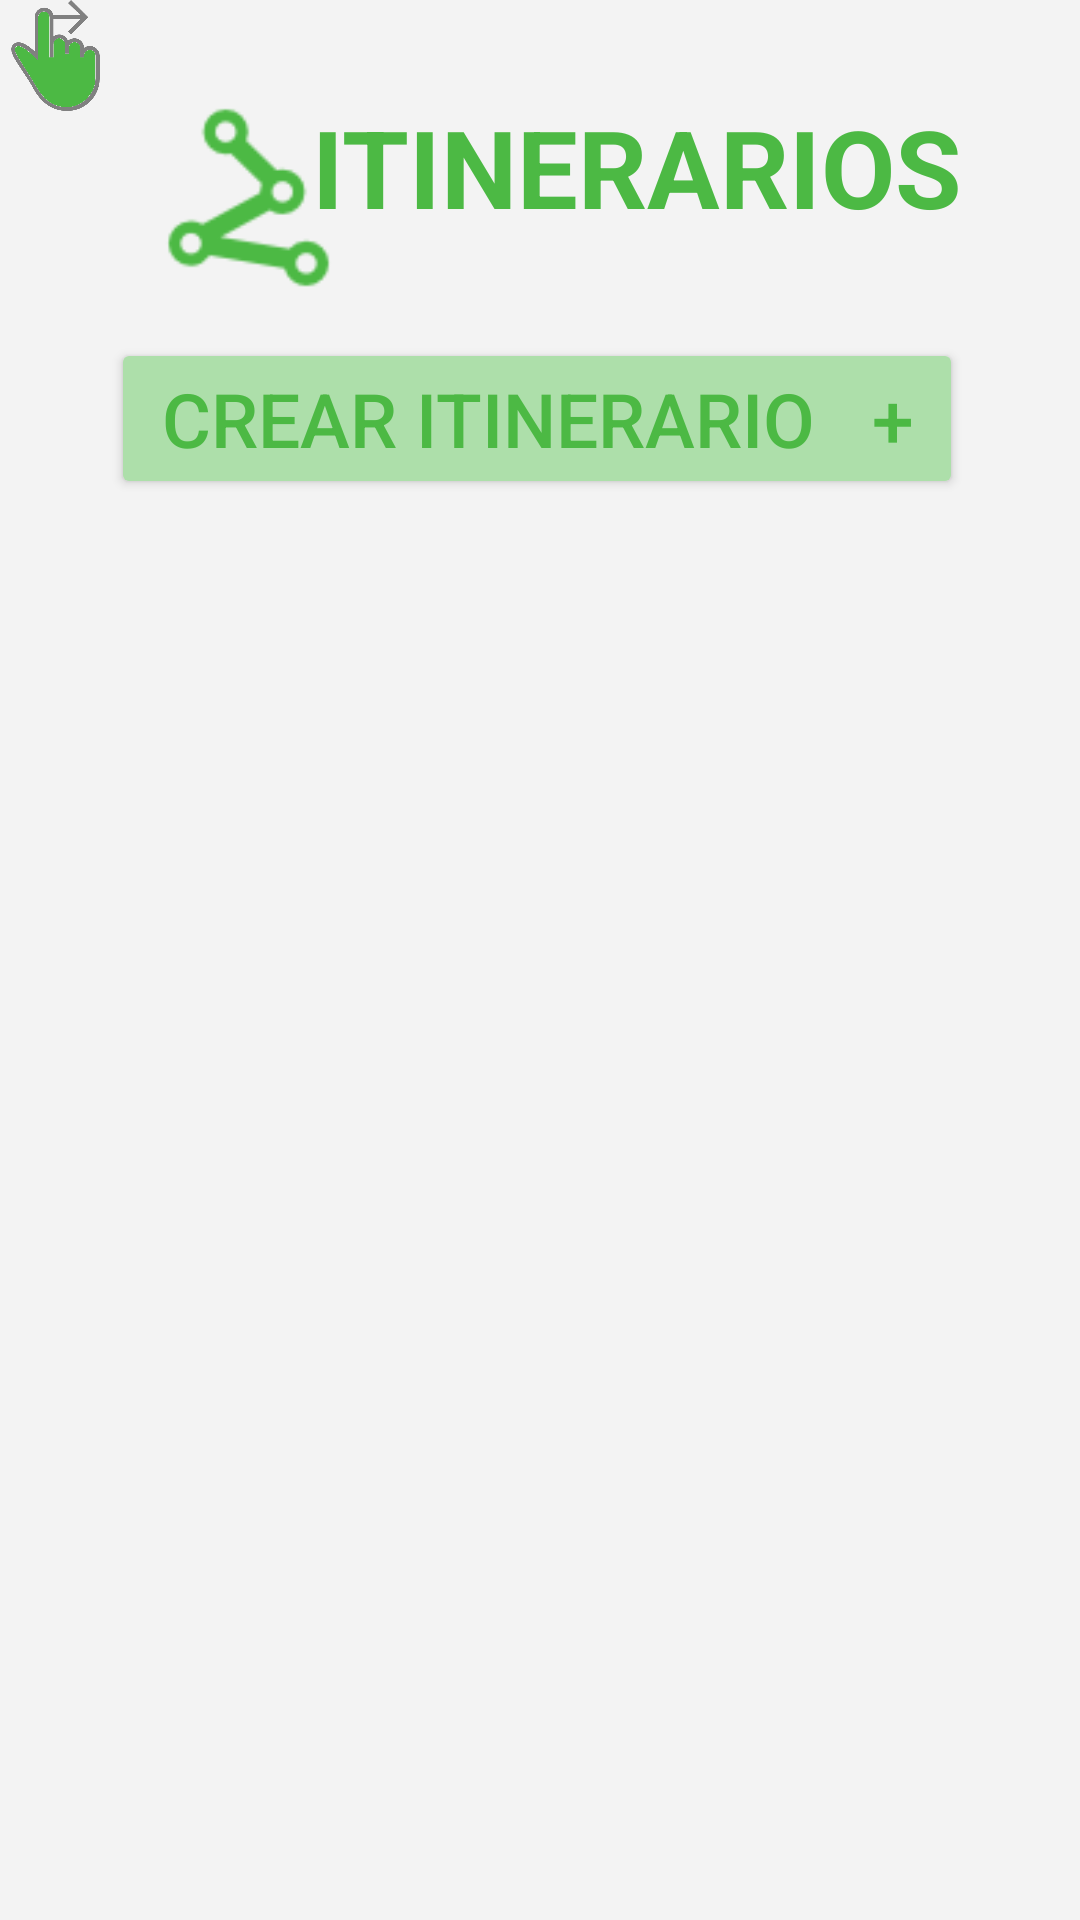

Where icons sit on this 1080×1920 app screen, as (x1, y1, x2, y2):
finger itinerarios: (11, 0, 100, 111)
